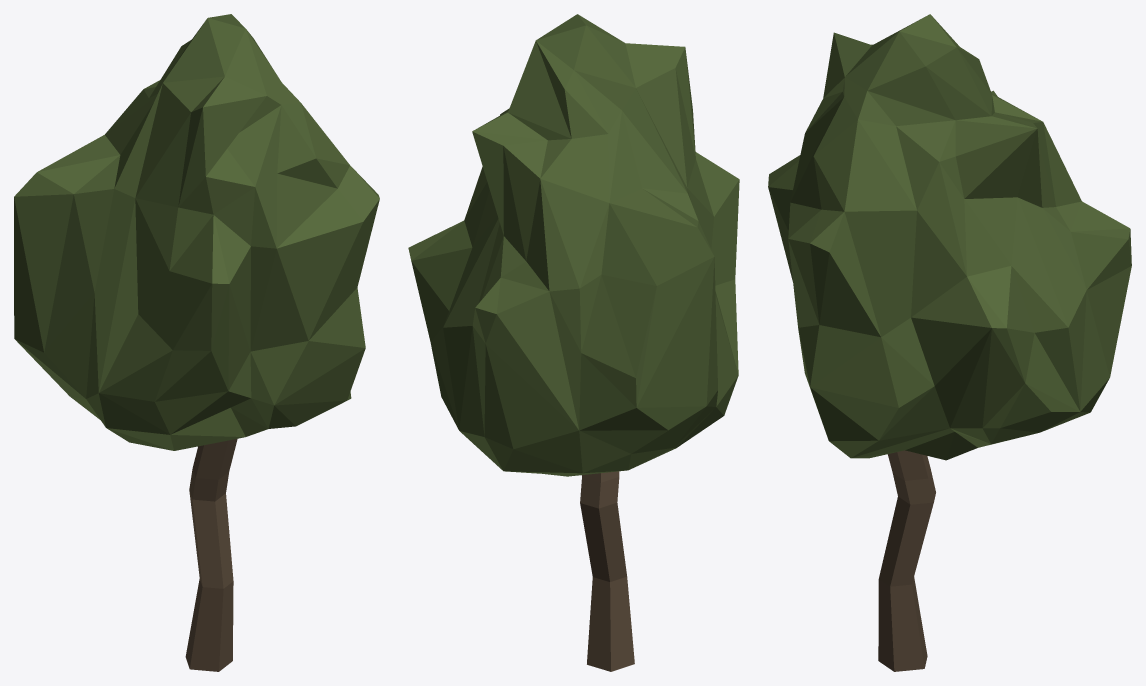
Rendered from tree_85.fbx.
The picture shows the model from 3 angles, left to right: view 1: azimuth 30°, elevation 25°; view 2: azimuth 150°, elevation 25°; view 3: azimuth 270°, elevation 25°; orthographic projection. The views are drawn at different scales.
Parts seen in each view (by area): view 1: tree_085; view 2: tree_085; view 3: tree_085.
Part boxes in pixels (x1,y1,x2,y2): tree_085: (14,14,379,671); tree_085: (408,14,739,671); tree_085: (768,14,1131,671).
Bounding box in the file's own units: 1.17 × 2.32 × 1.17.
Materials: 1 (1 with a texture image).
